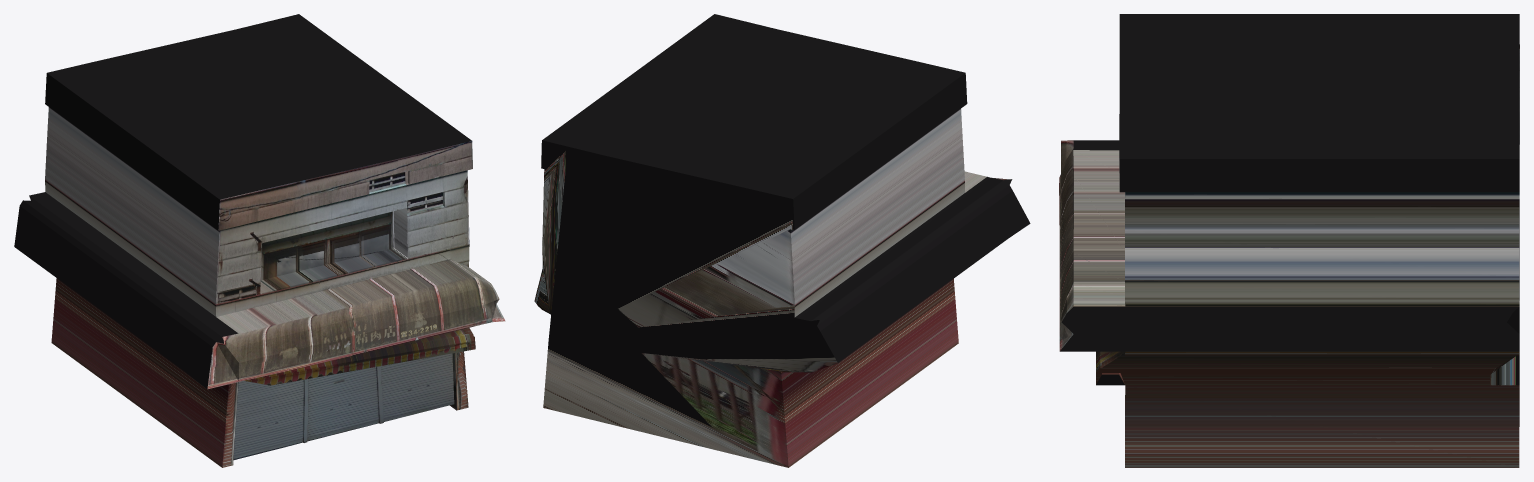
The model's file is Cafe.fbx.
The picture shows the model from 3 angles, left to right: view 1: azimuth 30°, elevation 25°; view 2: azimuth 150°, elevation 25°; view 3: azimuth 270°, elevation 25°; orthographic projection. The views are drawn at different scales.
Parts seen in each view (by area): view 1: Cafe, Cafe.001, Garagewall.001; view 2: Cafe.001, Cafe; view 3: Cafe, Cafe.001.
Boxes of the visible parts, x1,y1,x2,y2 form: Cafe: (14, 14, 505, 389); Cafe.001: (23, 200, 468, 467); Garagewall.001: (233, 353, 454, 460); Cafe.001: (534, 140, 958, 467); Cafe: (542, 14, 1030, 362); Cafe: (1059, 14, 1519, 385); Cafe.001: (1125, 44, 1519, 467).
Bounding box in the file's own units: 992 × 861 × 1149.
